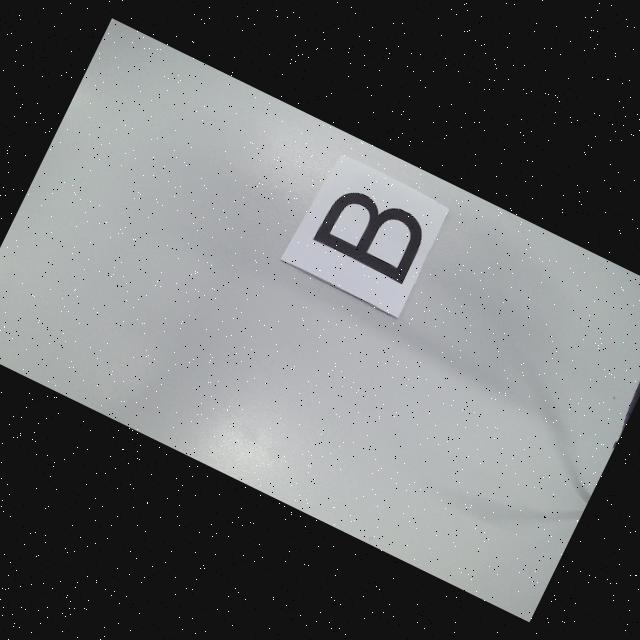FAKE: (312, 180, 432, 284)
